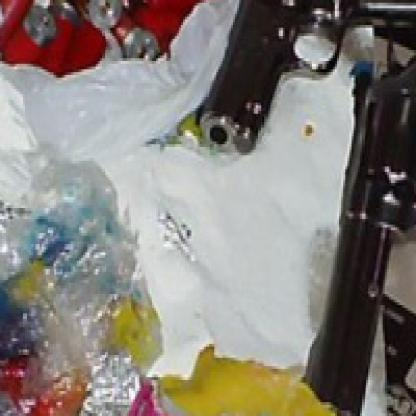gun: (302, 0, 414, 413), (185, 0, 415, 192)
